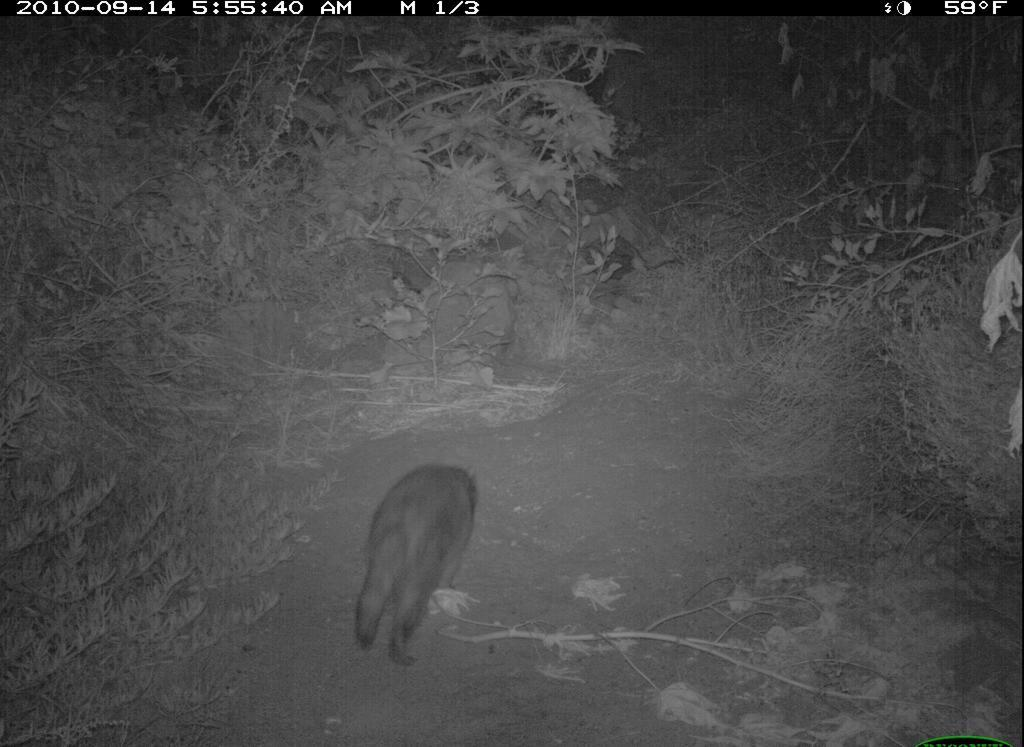raccoon: (354, 461, 482, 674)
